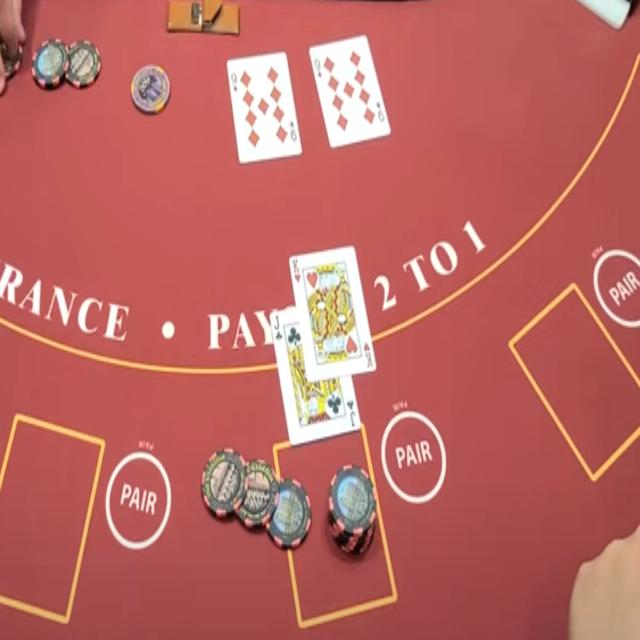9: (312, 55, 322, 73), (229, 70, 238, 86)
J: (270, 312, 284, 332)
K: (290, 257, 300, 275)
